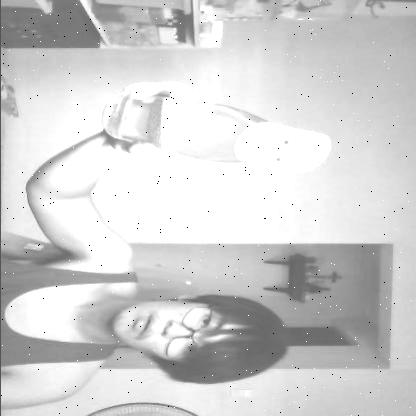Plastic Bottle: (99, 86, 338, 171)
